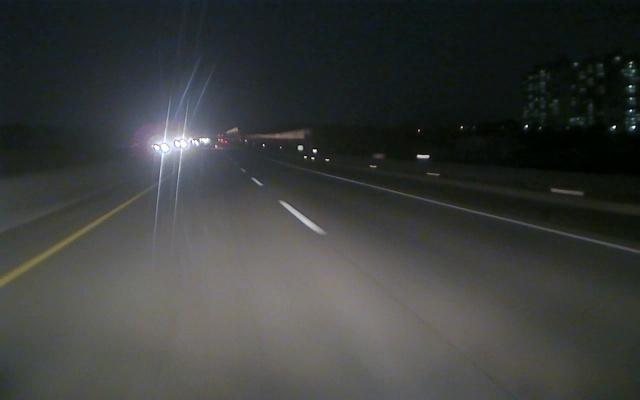lane: (342, 178, 638, 255), (0, 180, 165, 288), (250, 178, 326, 233)
